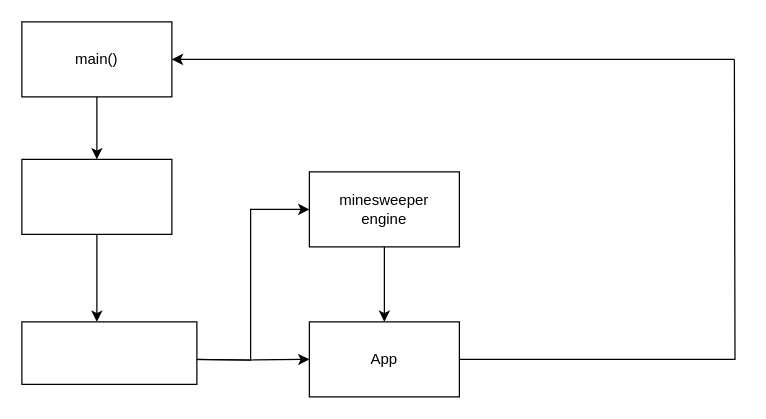
The diagram is 766 pixels wide and 419 high, and some of its shapes have lost their labels. Here are the shapes that lost their labels. From the top down, the box of each, then its label:
(21, 158, 172, 234): StartScreen
(21, 321, 197, 384): select difficulty
